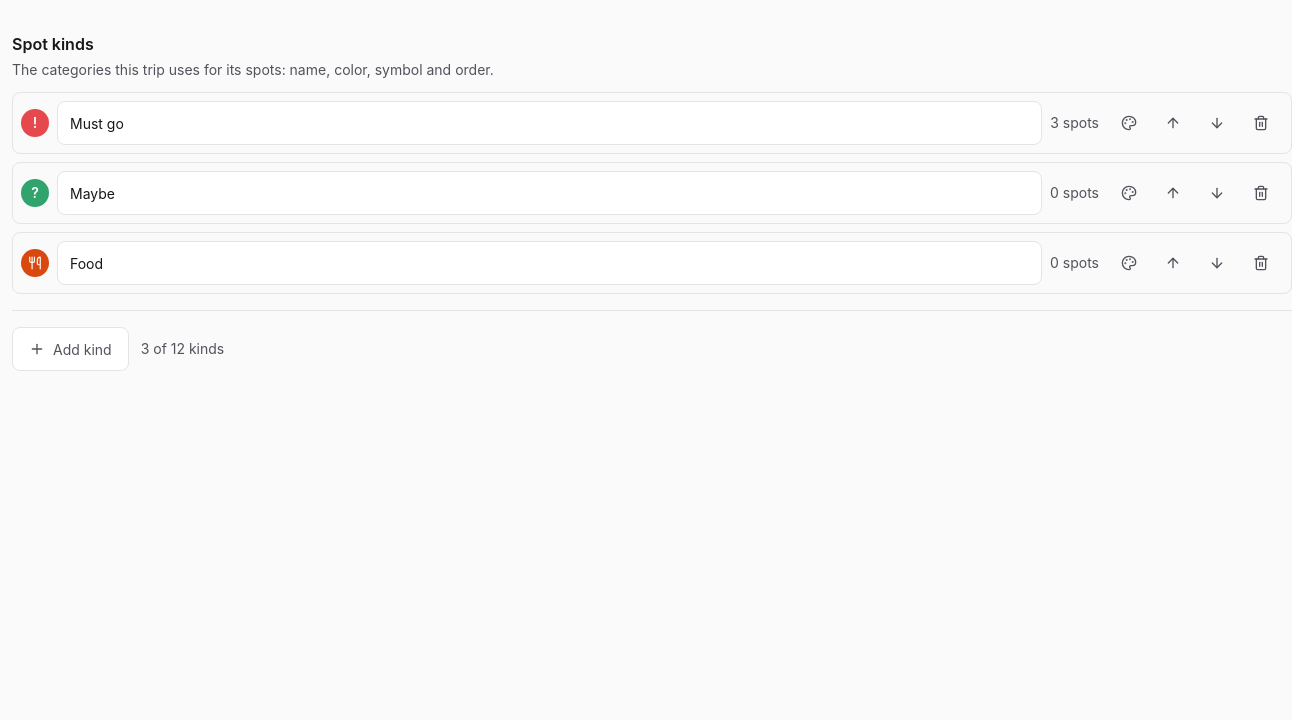
Scenario: spot kinds section › offers 10 color swatches and 64 symbols with translated names
Click the button named "Color and symbol of Food" at (1129, 263), box [1107,241,1151,285]
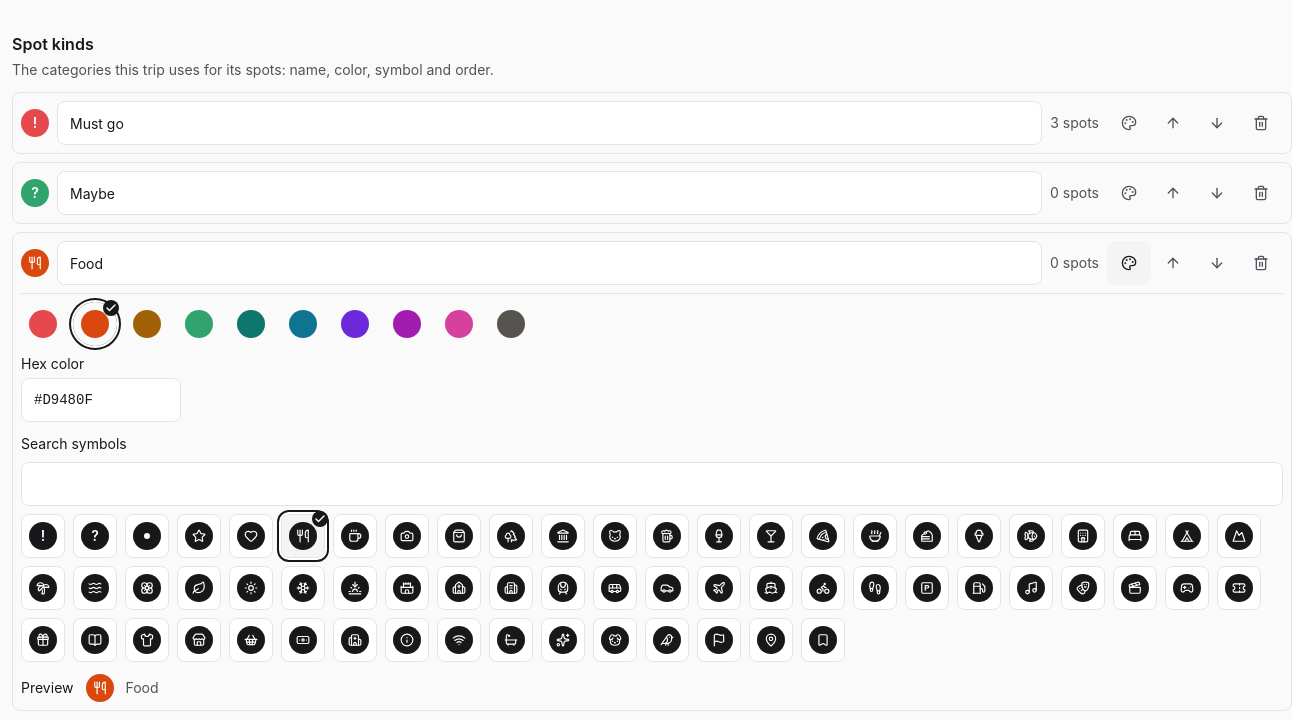
Check: the number of buttons with test id "kind-color-swatch" is 10
Check: the number of options with test id "kind-symbol" is 64
